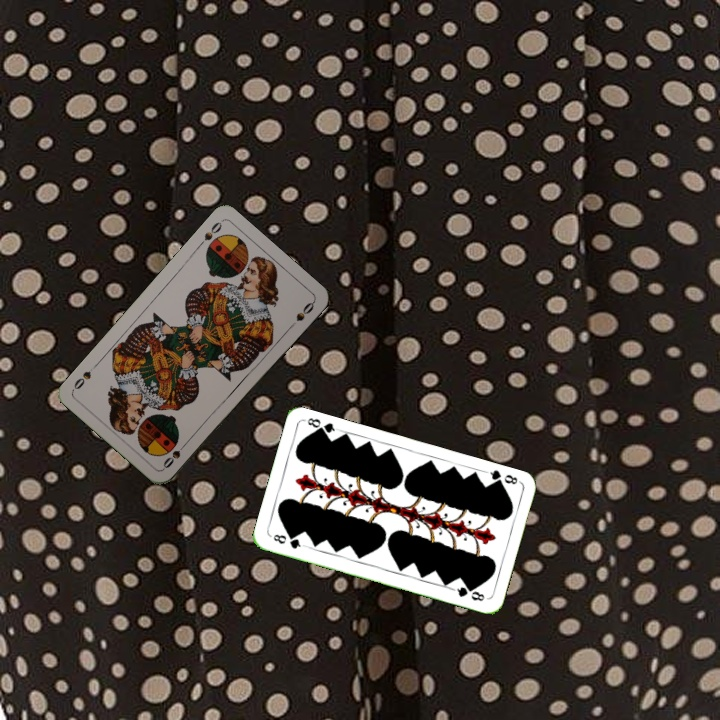G8: (482, 466, 522, 489), (269, 530, 307, 552)
SO: (159, 438, 190, 471), (194, 218, 224, 250)
